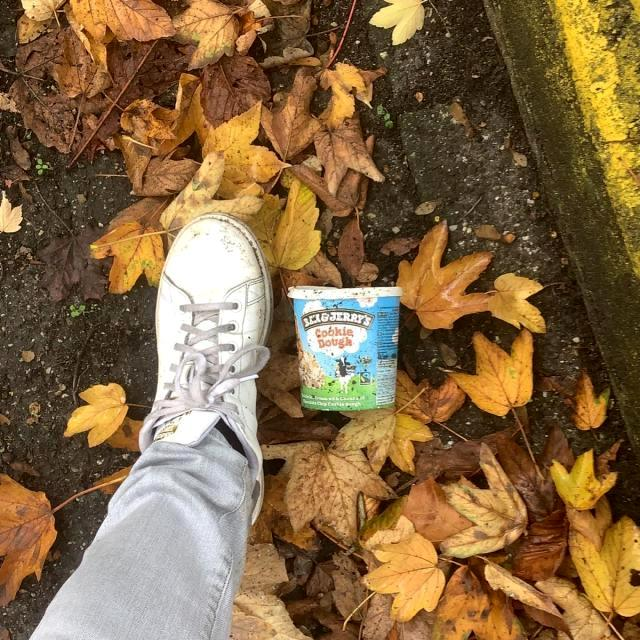Paper: (286, 283, 404, 413)
